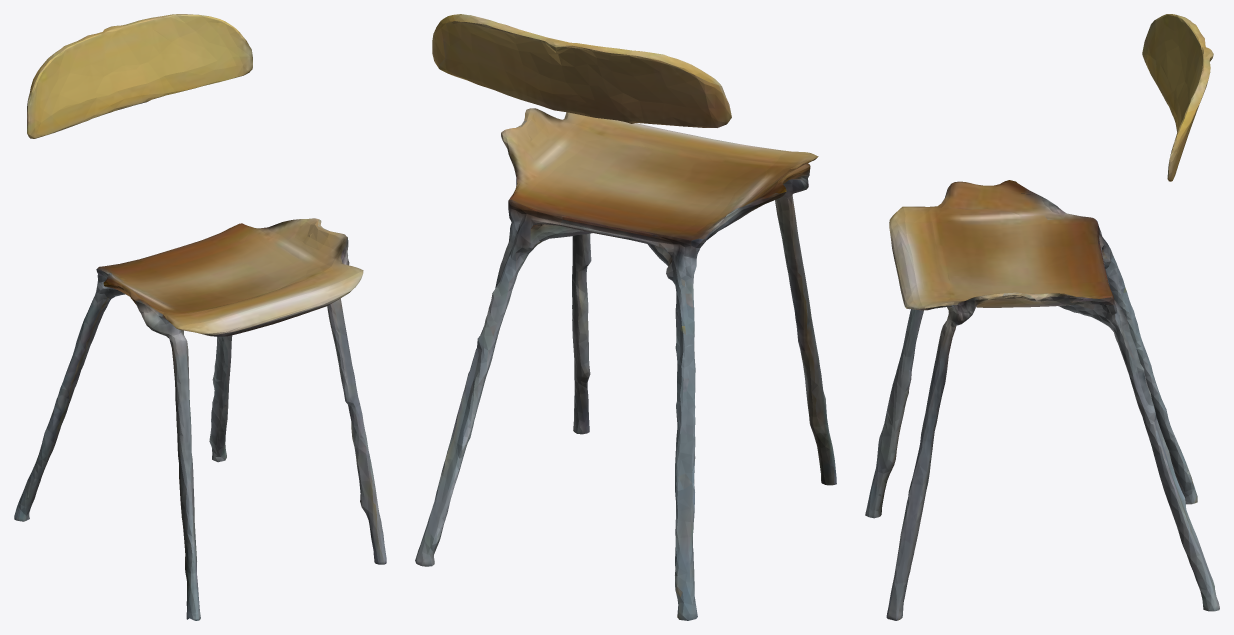
3 views of the same model, side by side, from view 1: azimuth 30°, elevation 25°; view 2: azimuth 150°, elevation 25°; view 3: azimuth 270°, elevation 25° (orthographic). The views are drawn at different scales.
Visible parts, largest first — view 1: world; view 2: world; view 3: world.
Part boxes in pixels (left/top/right/bottom): world: left=14, top=14, right=386, bottom=620; world: left=415, top=14, right=836, bottom=620; world: left=865, top=14, right=1219, bottom=620.
Bounding box in the file's own units: 0.2609 × 0.4692 × 0.3002.
Materials: 1 (1 with a texture image).
